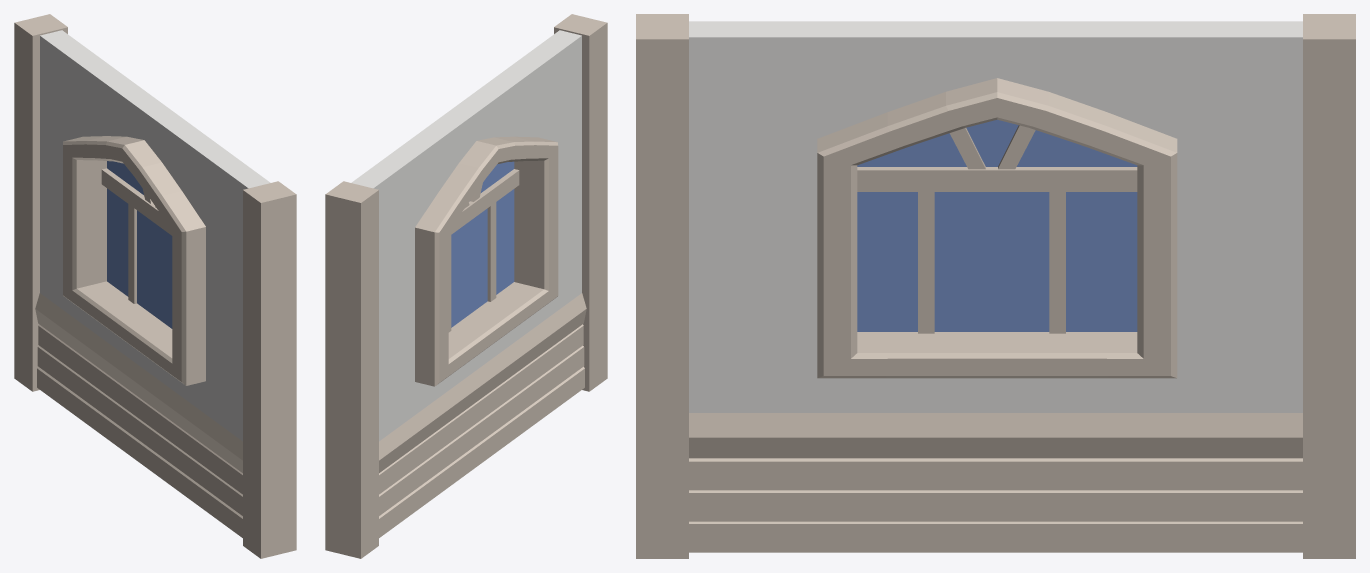
Rendered from Window03_house01.fbx.
3 views of the same model, side by side, from view 1: azimuth 30°, elevation 25°; view 2: azimuth 150°, elevation 25°; view 3: azimuth 270°, elevation 25° (orthographic). The views are drawn at different scales.
Parts seen in each view (by area): view 1: Window03; view 2: Window03; view 3: Window03.
Boxes of the visible parts, <box> form: Window03: <box>14,14,296,558</box>; Window03: <box>325,14,607,558</box>; Window03: <box>636,14,1355,558</box>.
Size of the model in its own units: 77.64 by 396 by 496.
